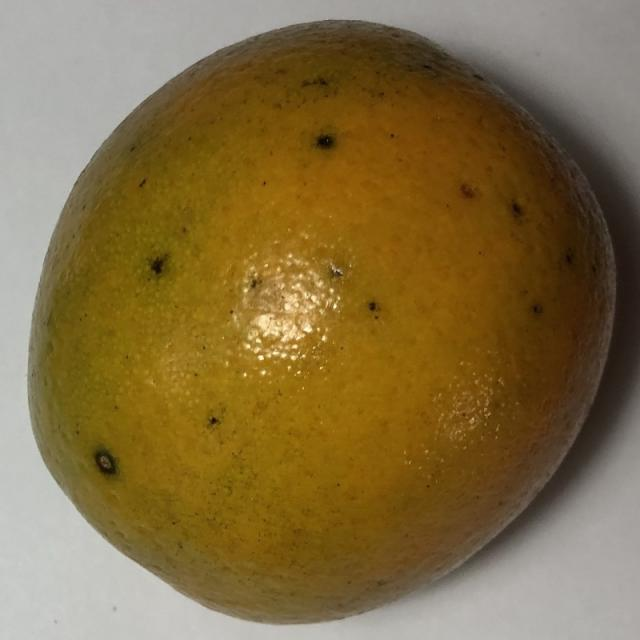blackspot: (34, 16, 625, 629)
